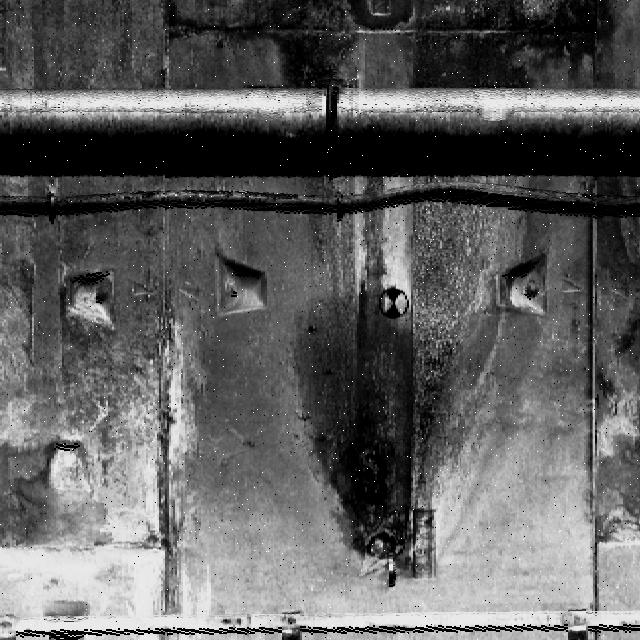leakage: (284, 182, 513, 585), (162, 1, 622, 95)
